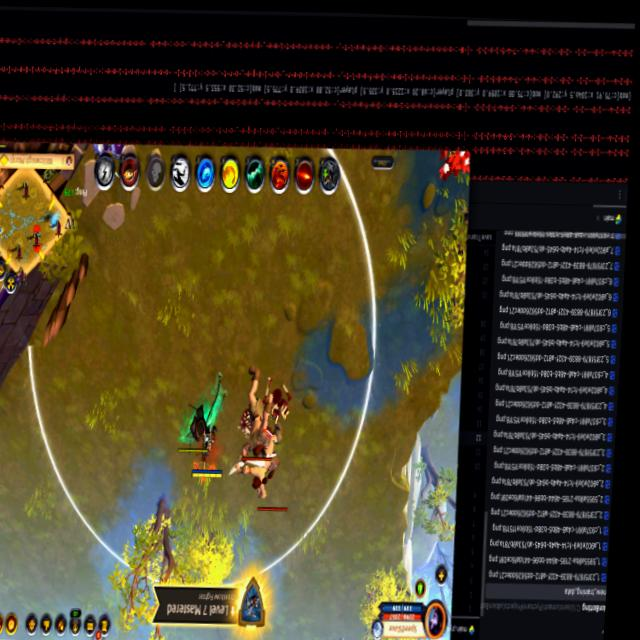hide: (434, 147, 471, 189)
ore: (223, 401, 297, 517), (234, 358, 283, 469)
red: (187, 414, 228, 485)
